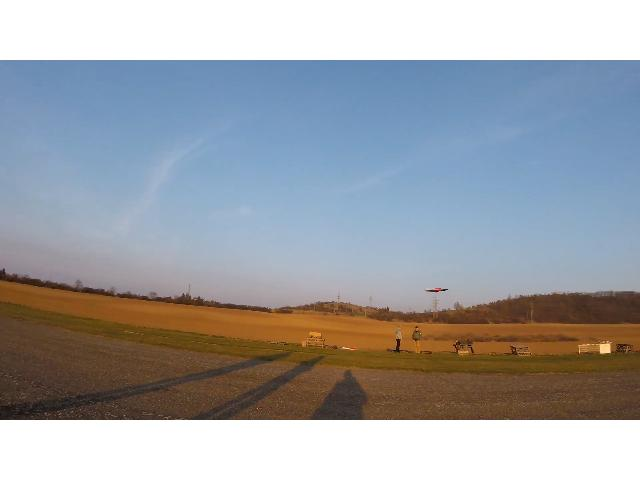Anti-Drone: (424, 288, 448, 292)
